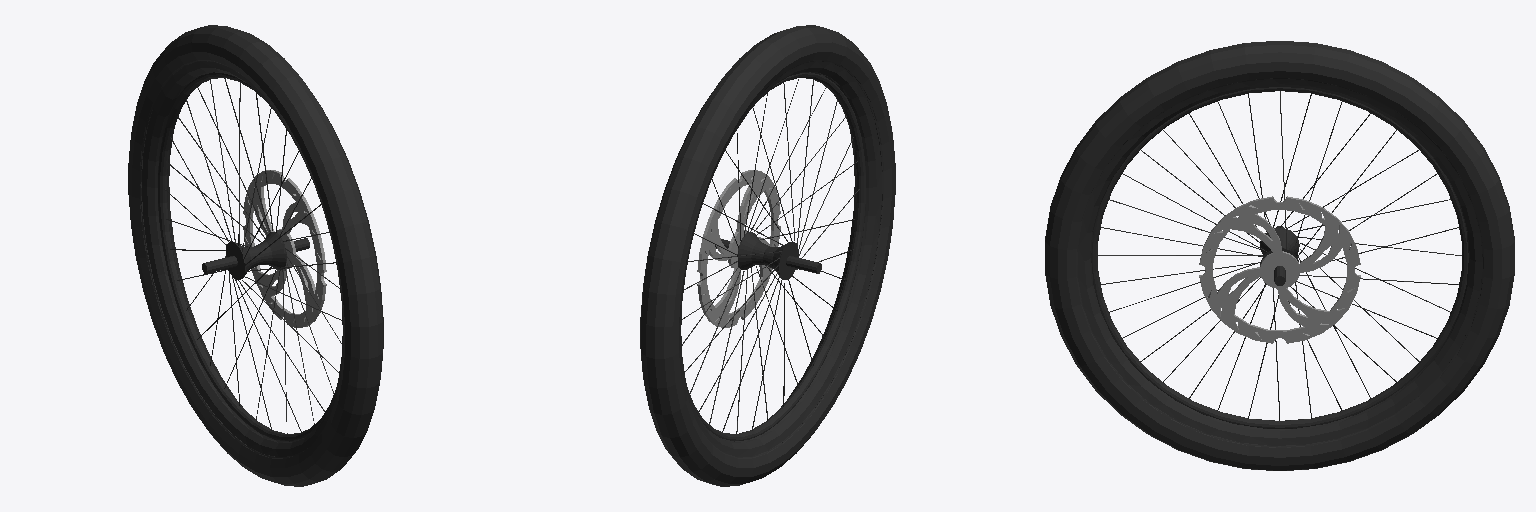
The model's file is BackWheel.obj.
The picture shows the model from 3 angles: view 1: azimuth 30°, elevation 25°; view 2: azimuth 150°, elevation 25°; view 3: azimuth 270°, elevation 25°; orthographic projection.
Visible parts, largest first — view 1: BackWheel; view 2: BackWheel; view 3: BackWheel.
Part boxes in pixels (bbox=[...]): BackWheel: bbox=[128, 25, 383, 486]; BackWheel: bbox=[640, 25, 895, 486]; BackWheel: bbox=[1045, 41, 1514, 470].
Bounding box in the file's own units: 17.87 × 70.9 × 70.7.